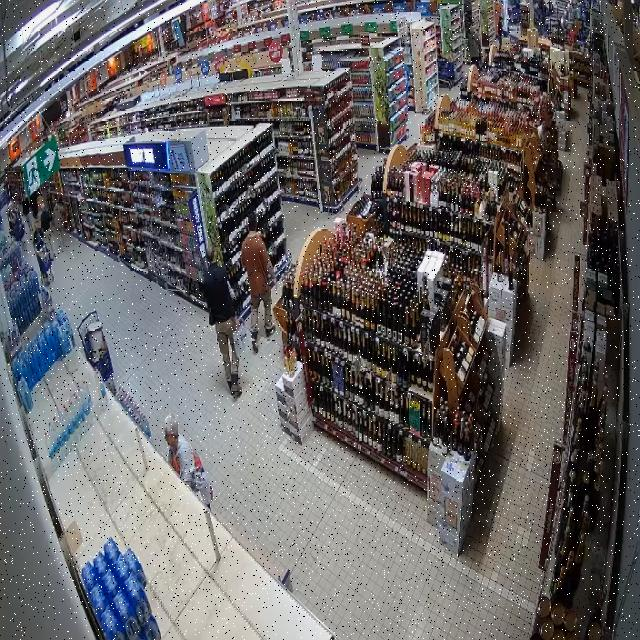article: (232, 324, 251, 360)
hands: (233, 317, 240, 329), (270, 278, 276, 288), (257, 229, 262, 237)
person: (203, 247, 241, 396), (241, 214, 275, 353), (165, 414, 212, 507)
